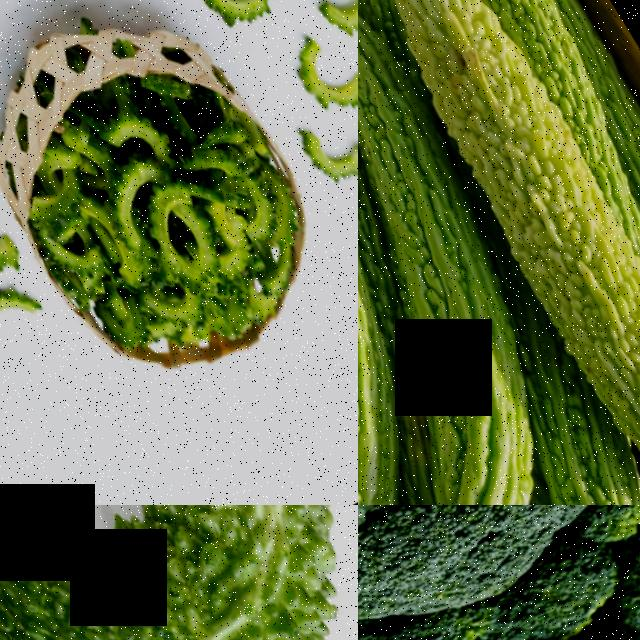bitter gourd: (358, 0, 640, 505), (23, 89, 303, 348), (358, 0, 523, 334), (0, 505, 358, 640), (443, 0, 620, 144), (358, 175, 431, 474), (523, 409, 640, 505)
broccoli: (358, 505, 640, 640)
